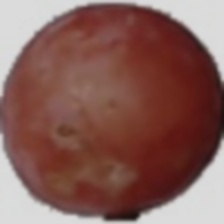grapes: (10, 18, 184, 189)
